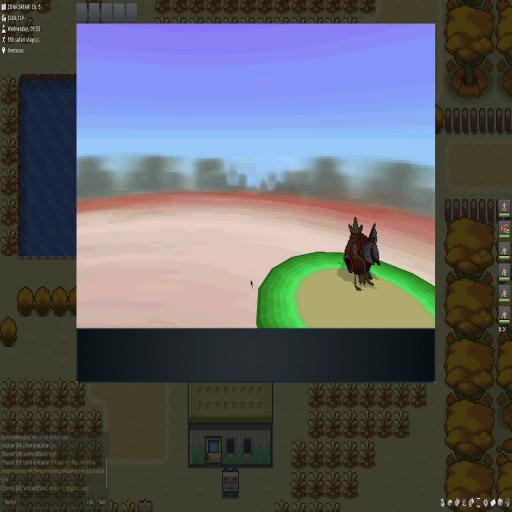MAGIKARP: (343, 218, 381, 290)
